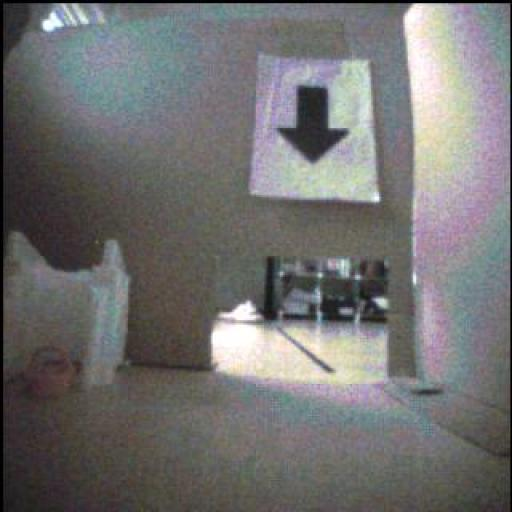arrow: (279, 88, 350, 165)
